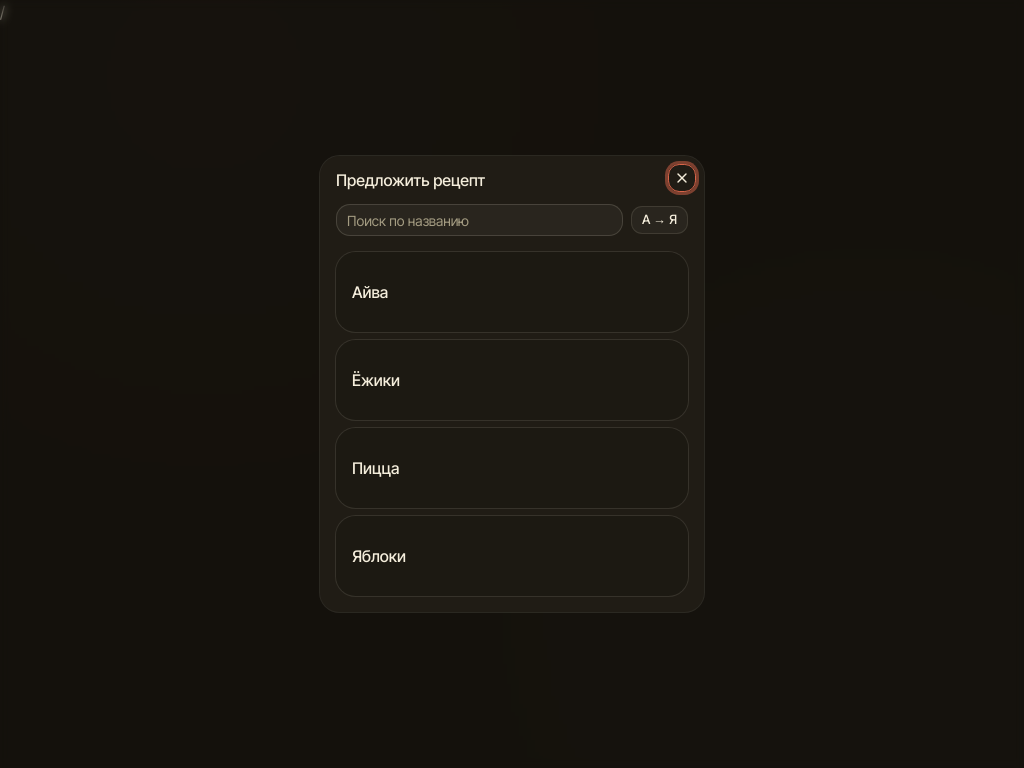
SuggestRecipeDialog › по умолчанию сортирует по алфавиту, кнопка разворачивает порядок
Expected: the text "Пицца" is shown, [352,458,399,478]
Step 1. Click the button named "Сортировка: от А до Я" → (660, 220), box [631,206,688,234]
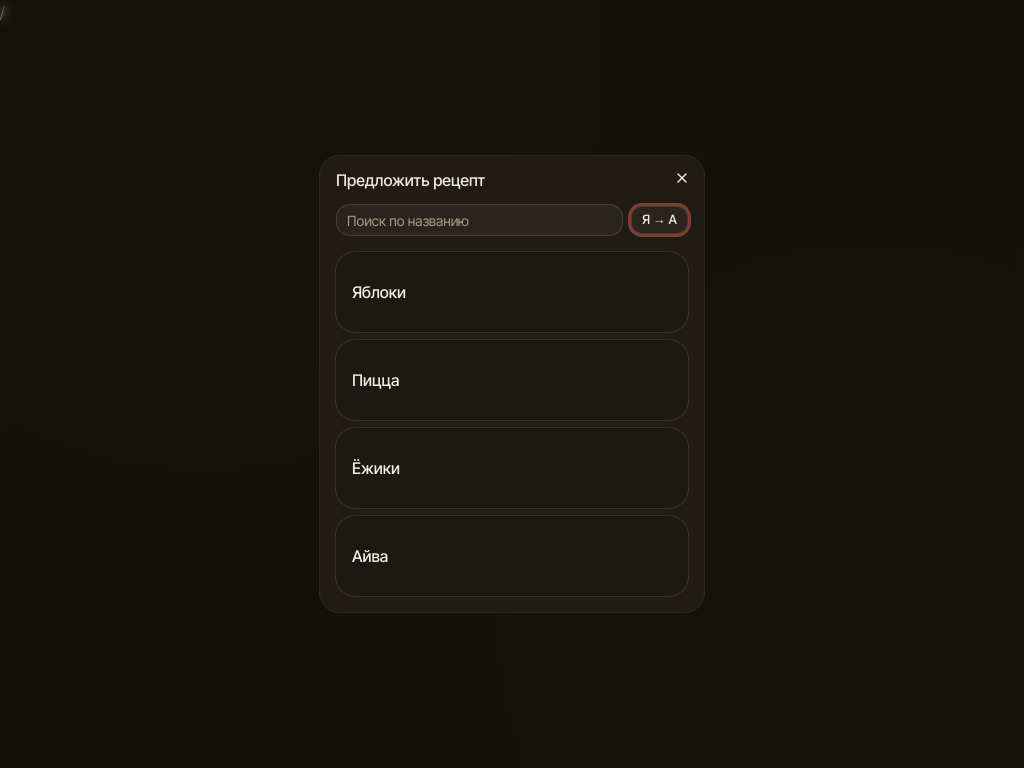
Expected: the button named "Сортировка: от Я до А" is shown, [631,206,688,234]
